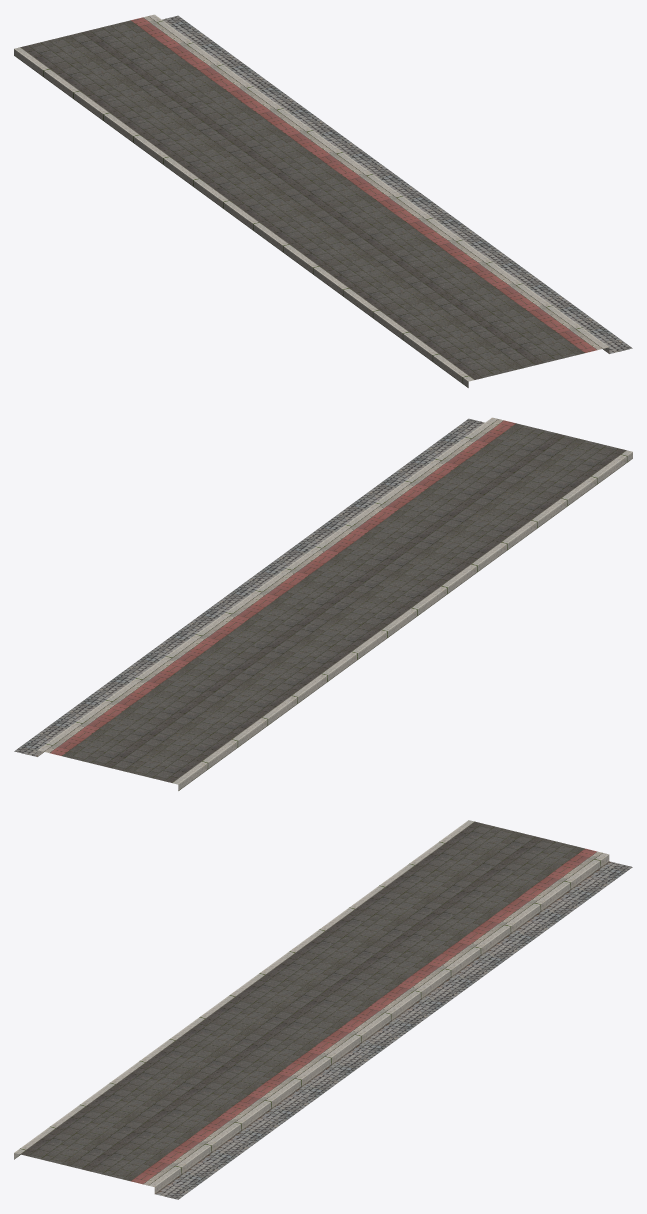
The model's file is sidewalk.glb.
The picture shows the model from 3 angles, top to bottom: view 1: azimuth 30°, elevation 25°; view 2: azimuth 150°, elevation 25°; view 3: azimuth 330°, elevation 25°; orthographic projection.
Parts seen in each view (by area): view 1: Object_2; view 2: Object_2; view 3: Object_2.
Boxes of the visible parts, x1,y1,x2,y2 form: Object_2: [14, 14, 632, 387]; Object_2: [14, 417, 632, 790]; Object_2: [14, 820, 632, 1199].
Bounding box in the file's own units: 11.97 × 0.4807 × 57.39.
1 material, 1 textured.
